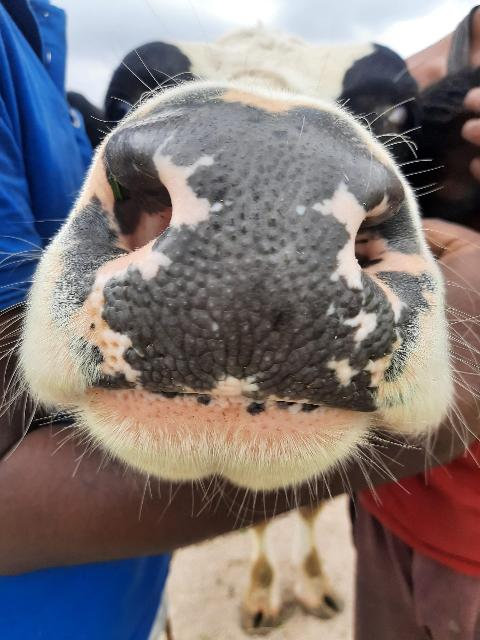Muzzle: (146, 119, 374, 405)
